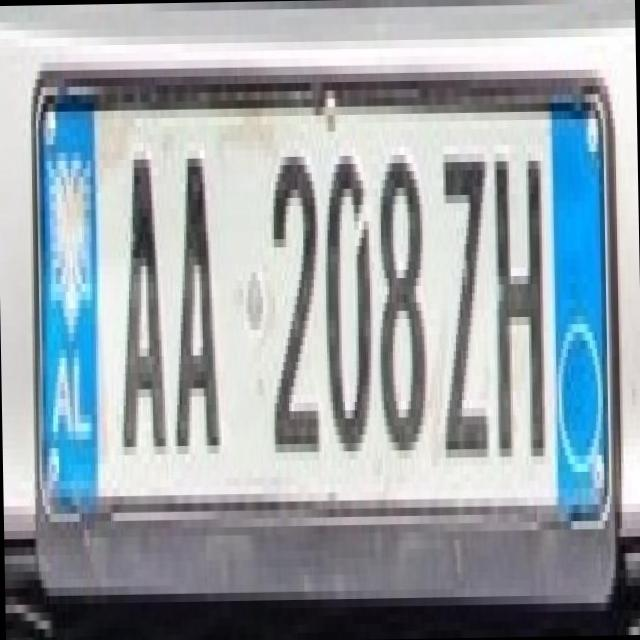0: (312, 122, 372, 451)
2: (256, 123, 322, 460)
8: (372, 138, 430, 442)
A: (152, 133, 229, 454), (106, 126, 166, 454)
H: (478, 128, 558, 456)
Z: (432, 144, 493, 450)
